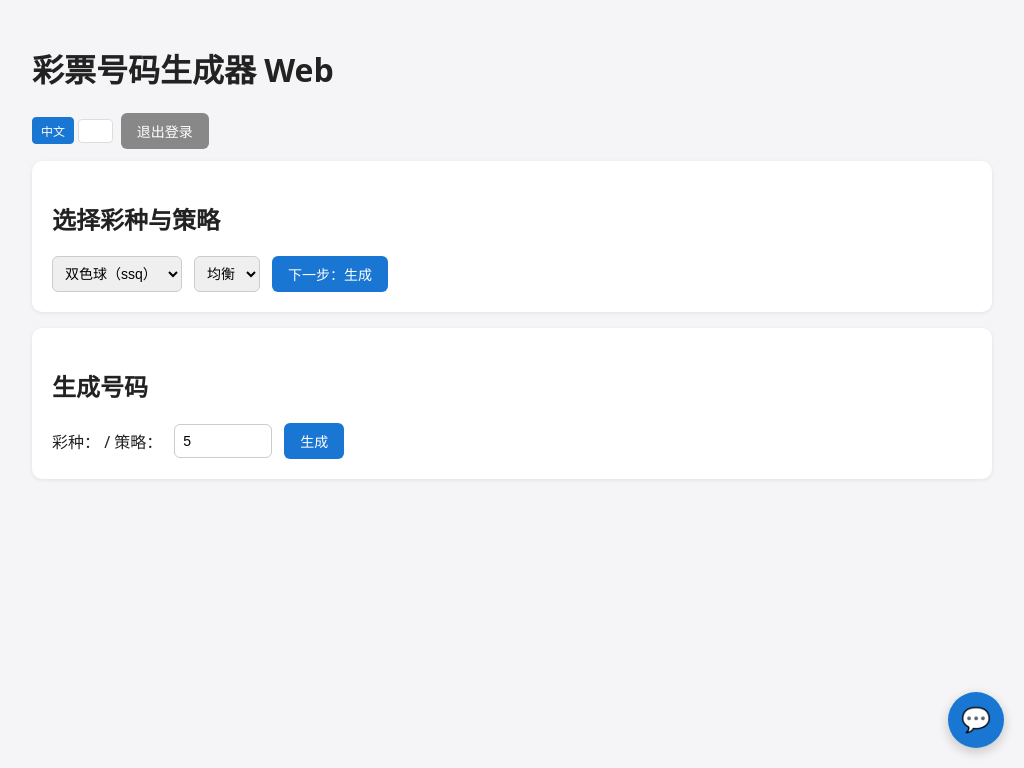
Test: App 外壳 › 管理员角色才显示「管理」Tab
Click the button "下一步：生成": coordinates (330, 274) [272,256,388,292]
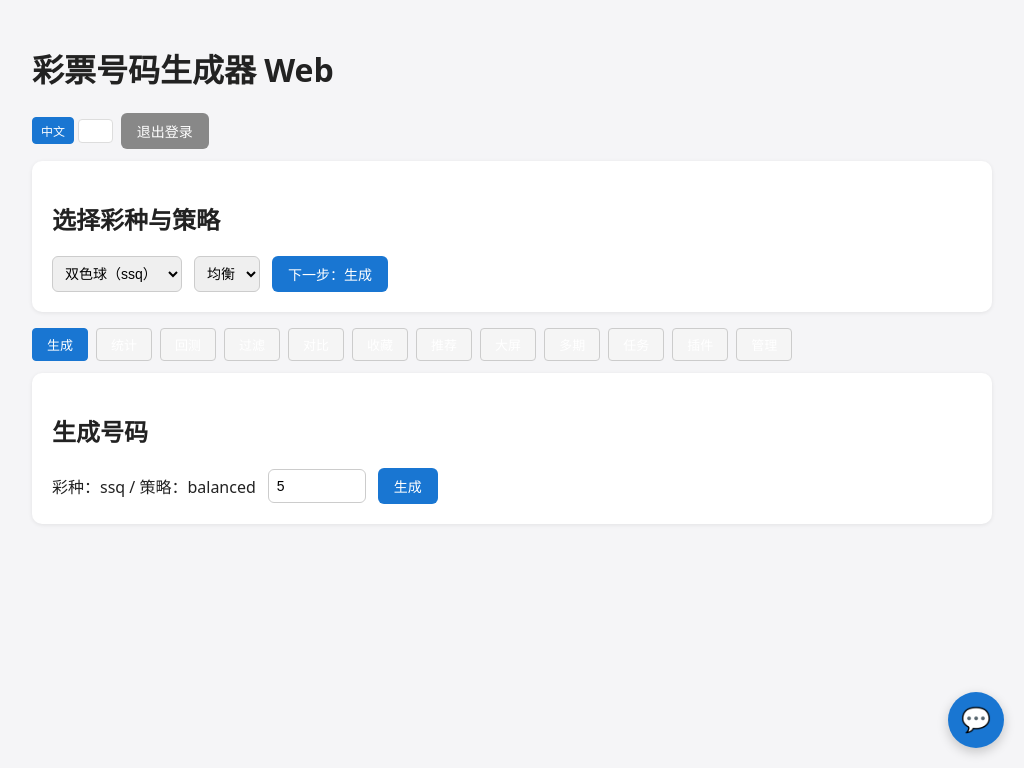
Click the button "管理": coordinates (764, 344) [736,328,792,361]
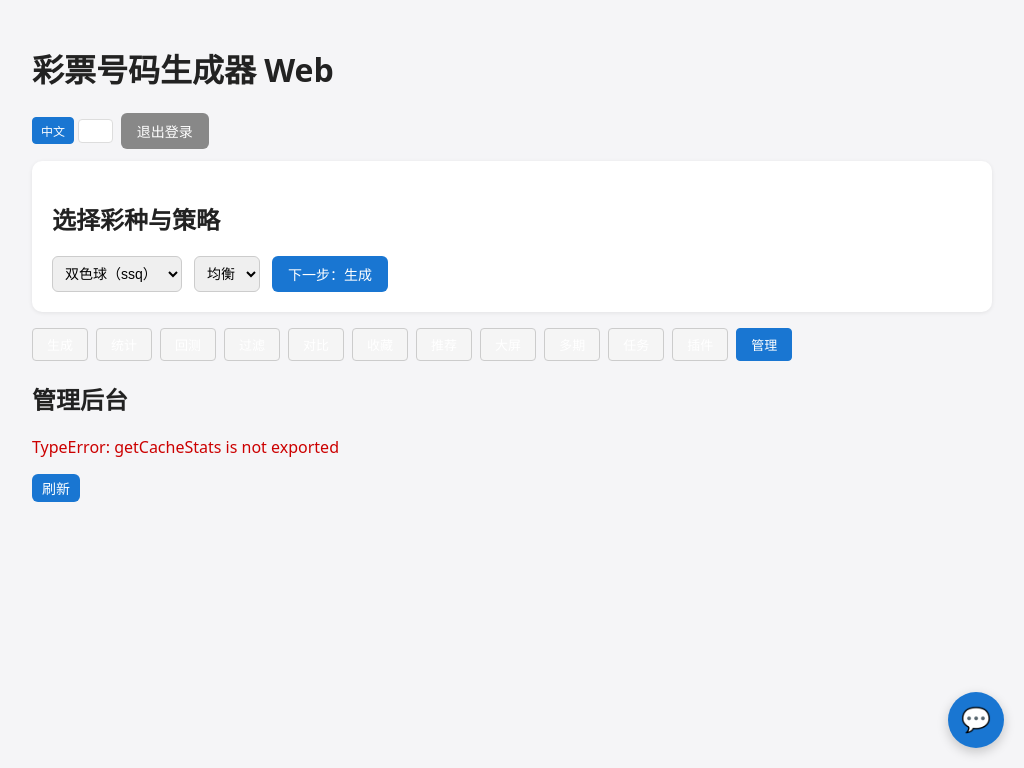
Result: the text "管理后台" is shown at [32,383,128,416]
